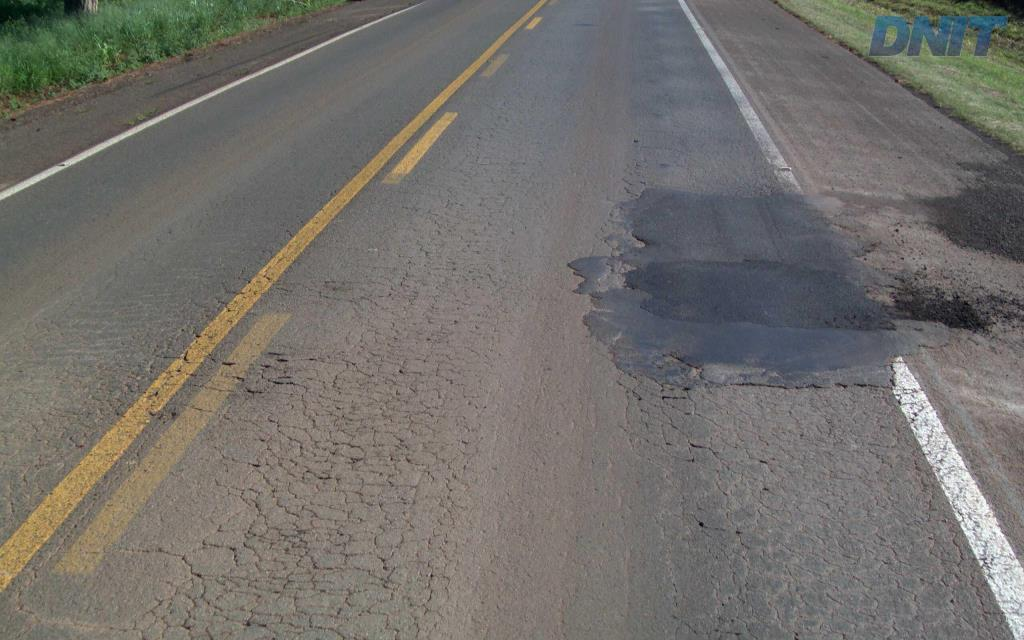crack: (685, 512, 740, 569), (670, 614, 747, 639), (649, 382, 706, 411)
